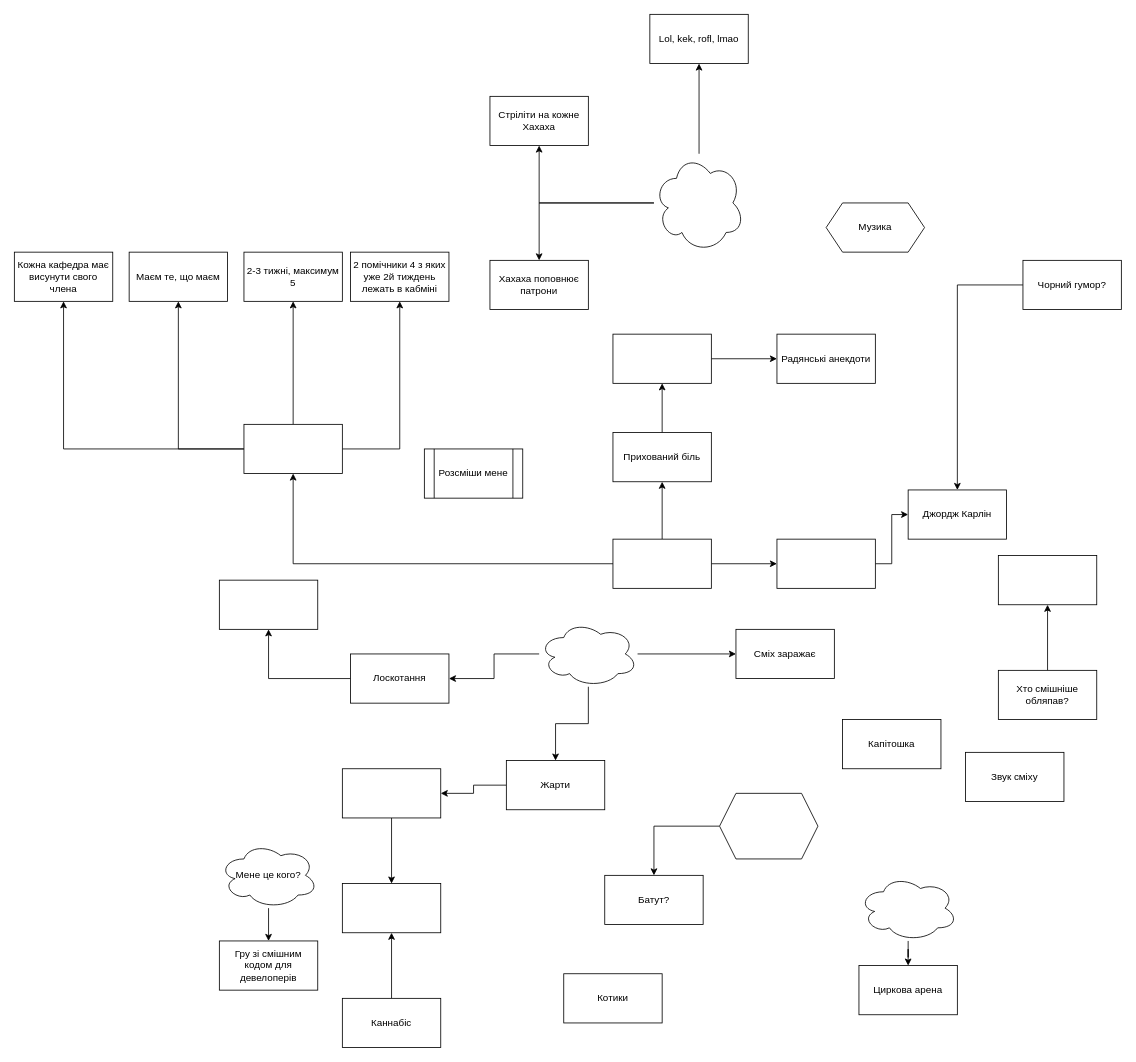
The diagram is 1136 pixels wide and 1062 high, and some of its shapes have lost their labels. The centre of each missing label's shape, as x and y in pixels:
Використання мікрофона як інпуту: (x=698, y=202)
Жартами можна стріляти: (x=391, y=793)
Локальні меми: (x=292, y=449)
Локація? Сеттинг?: (x=907, y=908)
Меми: (x=661, y=563)
Мультиплеєр. Лоскотання пером по 10 секунд. Хто більше.: (x=268, y=604)
Різні кольори: (x=1047, y=580)
Серед смішного знайти прихований біль: (x=661, y=358)
Стендапи?: (x=825, y=563)
Хочемо вертикальний вимір геймплею: (x=768, y=826)
Що значить розсмішити?: (x=588, y=653)
І косяками теж: (x=391, y=908)
